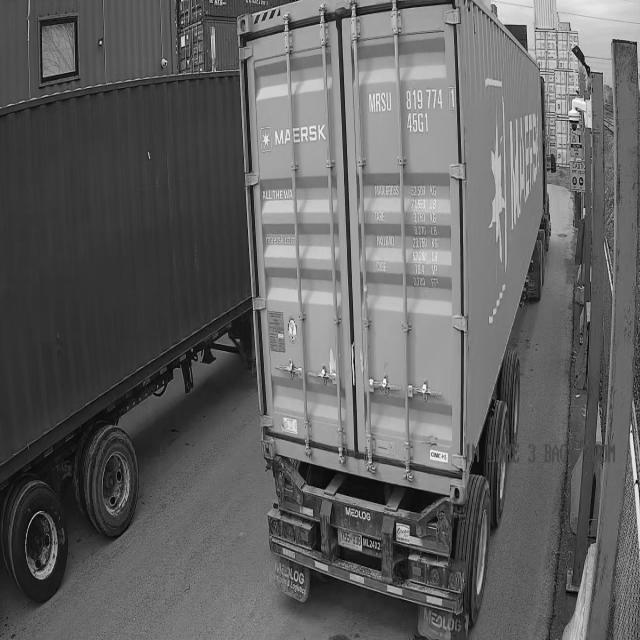container_company_logo: (266, 121, 329, 162)
container_number: (366, 80, 452, 138)
license_plate: (332, 527, 370, 561)
truck_with_container: (238, 0, 550, 639), (0, 72, 252, 602)
